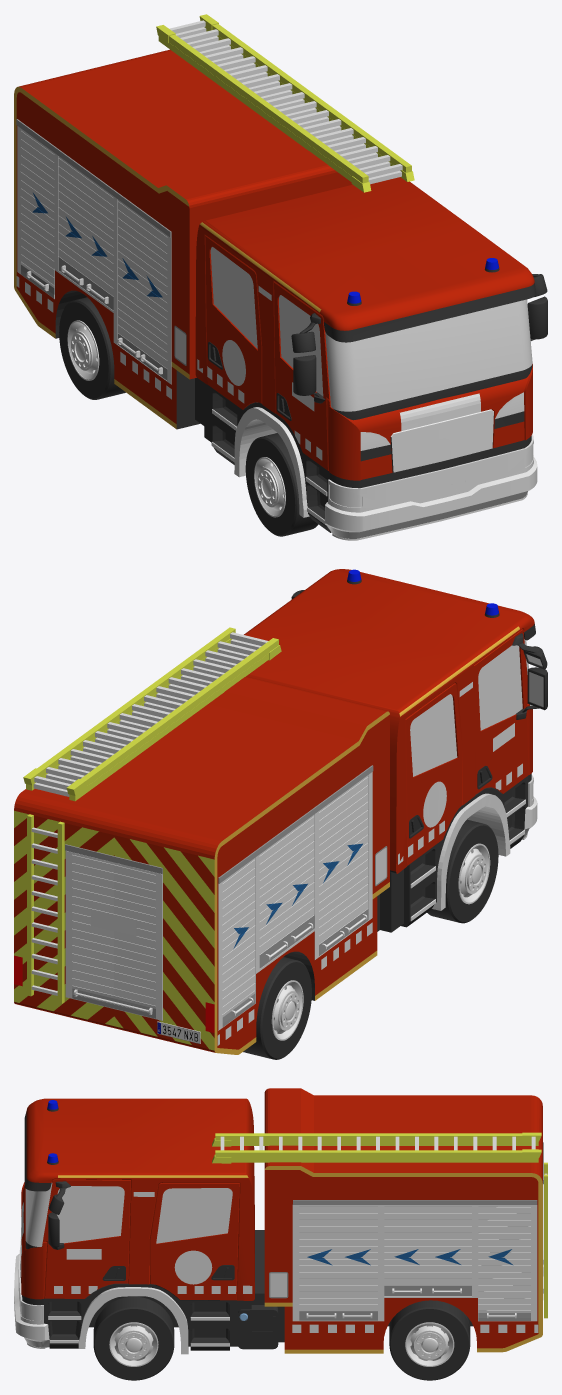
File: brp.fbx
The picture shows the model from 3 angles, top to bottom: view 1: azimuth 30°, elevation 25°; view 2: azimuth 150°, elevation 25°; view 3: azimuth 270°, elevation 25°; orthographic projection. The views are drawn at different scales.
Parts seen in each view (by area): view 1: cabina, trailer, escalera arriva, rueda, peldaños, rueda.001, pegatina MAN, peldaños.001, cubre ruedas, escalera debajo, retrovisor inferior, pegatina bombers frontal (+2 smaller); view 2: trailer, cabina, escalera arriva, peldaños, rueda.001, rueda, peldaños.001, escalera detras, cubre ruedas, escalera debajo, peldaños.002, retrovisor inferior (+3 smaller); view 3: trailer, cabina, rueda, rueda.001, escalera arriva, escalera debajo, cubre ruedas, tanque de gasolina, peldaños, pegatina 112, pegatina cuadrados detras, escalera detras (+3 smaller).
Boxes of the visible parts, left/top/right/bottom form: cabina: left=195, top=177, right=537, bottom=540; trailer: left=14, top=49, right=352, bottom=429; escalera arriva: left=156, top=14, right=411, bottom=183; rueda: left=245, top=433, right=318, bottom=536; peldaños: left=169, top=20, right=402, bottom=177; rueda.001: left=59, top=297, right=125, bottom=399; pegatina MAN: left=391, top=412, right=493, bottom=472; peldaños.001: left=175, top=27, right=401, bottom=184; cubre ruedas: left=234, top=407, right=309, bottom=517; escalera debajo: left=158, top=29, right=414, bottom=192; retrovisor inferior: left=293, top=296, right=547, bottom=395; pegatina bombers frontal: left=400, top=393, right=480, bottom=430; trailer: left=14, top=676, right=389, bottom=1054; cabina: left=244, top=569, right=537, bottom=932; escalera arriva: left=23, top=627, right=278, bottom=795; peldaños: left=34, top=632, right=268, bottom=789; rueda.001: left=243, top=957, right=311, bottom=1059; rueda: left=427, top=819, right=498, bottom=923; peldaños.001: left=33, top=639, right=261, bottom=796; escalera detras: left=27, top=814, right=64, bottom=1003; cubre ruedas: left=432, top=793, right=510, bottom=910; escalera debajo: left=26, top=638, right=281, bottom=801; peldaños.002: left=31, top=827, right=57, bottom=995; retrovisor inferior: left=527, top=667, right=547, bottom=710; trailer: left=264, top=1088, right=543, bottom=1353; cabina: left=14, top=1098, right=472, bottom=1350; rueda: left=93, top=1296, right=174, bottom=1380; rueda.001: left=389, top=1300, right=470, bottom=1380; escalera arriva: left=215, top=1132, right=541, bottom=1158; escalera debajo: left=212, top=1138, right=538, bottom=1163; cubre ruedas: left=78, top=1287, right=188, bottom=1354; tanque de gasolina: left=238, top=1305, right=278, bottom=1349; peldaños: left=220, top=1136, right=535, bottom=1150; pegatina 112: left=174, top=1250, right=212, bottom=1284; pegatina cuadrados detras: left=292, top=1324, right=538, bottom=1332; escalera detras: left=544, top=1162, right=547, bottom=1318.
Bounding box in the file's own units: 287 × 309 × 665.
